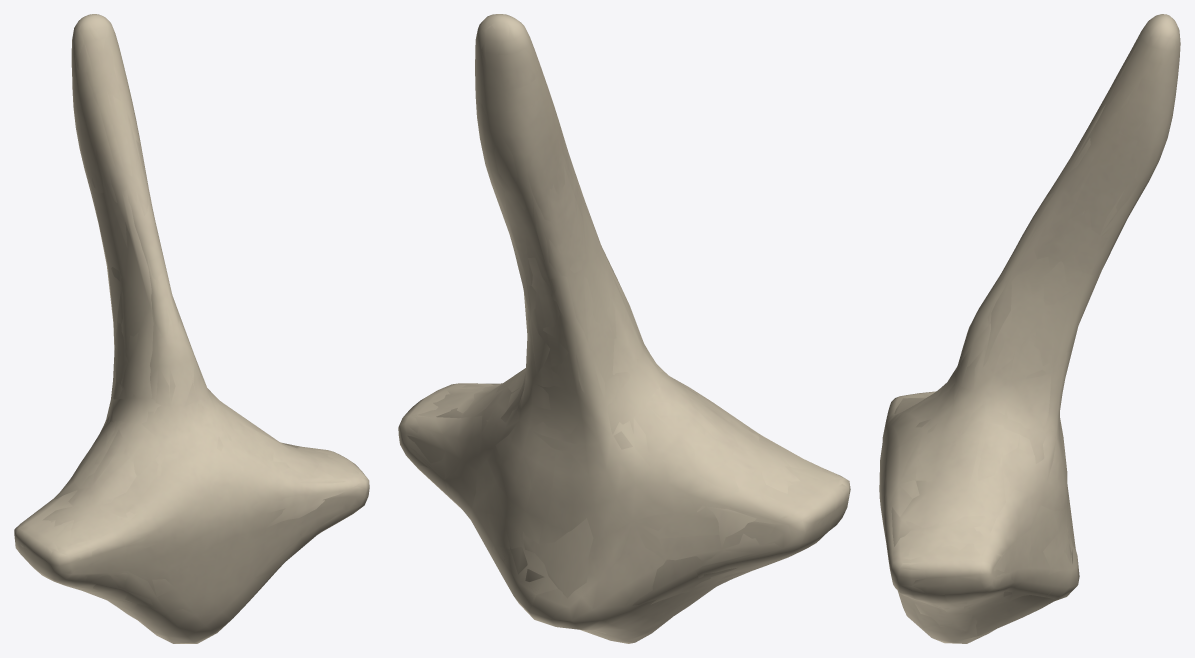
File: vertebrae thoracicae 01.fbx
3 views of the same model, side by side, from view 1: azimuth 30°, elevation 25°; view 2: azimuth 150°, elevation 25°; view 3: azimuth 270°, elevation 25° (orthographic). The views are drawn at different scales.
Parts seen in each view (by area): view 1: vertebrae thoracicae 01 high, vertebrae thoracicae 01, vertebrae thoracicae 01 low; view 2: vertebrae thoracicae 01, vertebrae thoracicae 01 high, vertebrae thoracicae 01 low; view 3: vertebrae thoracicae 01, vertebrae thoracicae 01 high, vertebrae thoracicae 01 low.
Part boxes in pixels (x1=…): vertebrae thoracicae 01 high: x1=14, y1=14, x2=367, y2=643; vertebrae thoracicae 01: x1=14, y1=15, x2=369, y2=643; vertebrae thoracicae 01 low: x1=42, y1=91, x2=345, y2=617; vertebrae thoracicae 01: x1=398, y1=15, x2=850, y2=643; vertebrae thoracicae 01 high: x1=398, y1=14, x2=849, y2=643; vertebrae thoracicae 01 low: x1=433, y1=161, x2=828, y2=633; vertebrae thoracicae 01: x1=879, y1=14, x2=1180, y2=643; vertebrae thoracicae 01 high: x1=879, y1=14, x2=1180, y2=642; vertebrae thoracicae 01 low: x1=891, y1=100, x2=1114, y2=638.
Size of the model in its own units: 8.81 by 14.5 by 6.34.
1 material, 1 textured.
